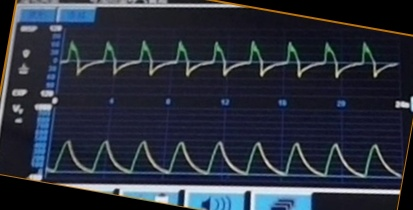Accumulation Flow: (66, 33, 394, 97)
Volume: (54, 124, 397, 185)
